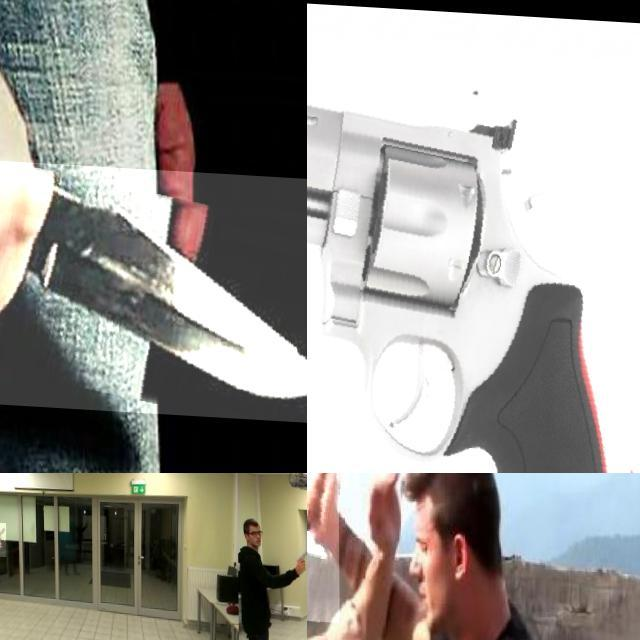-: (0, 151, 307, 417), (307, 473, 343, 619)
gun-knife-thesis - v11 Yolov5 augmented: (307, 24, 640, 473), (292, 538, 307, 566), (0, 521, 8, 556)
